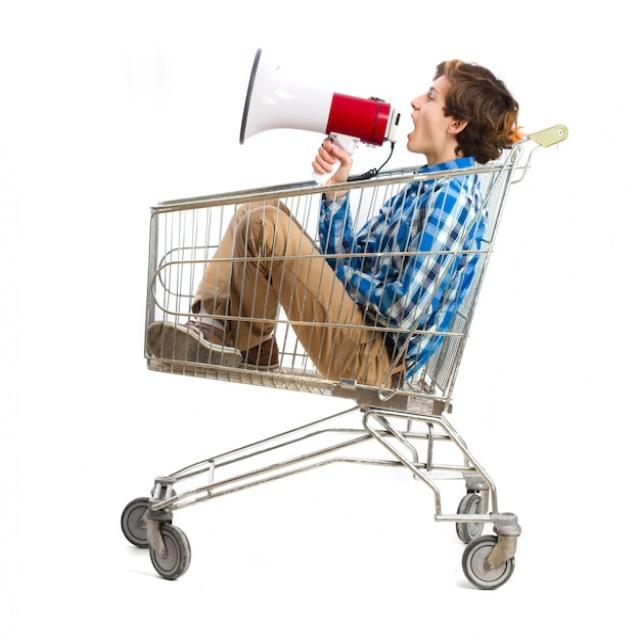Person: (149, 57, 518, 390)
